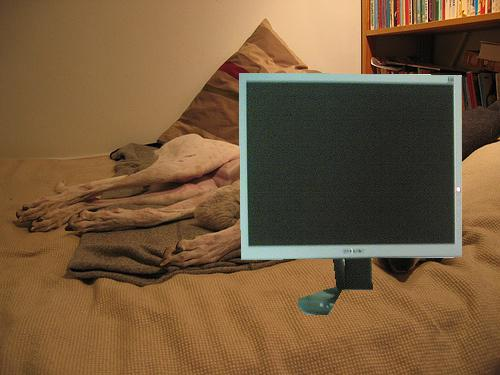tampered: (240, 74, 462, 315)
